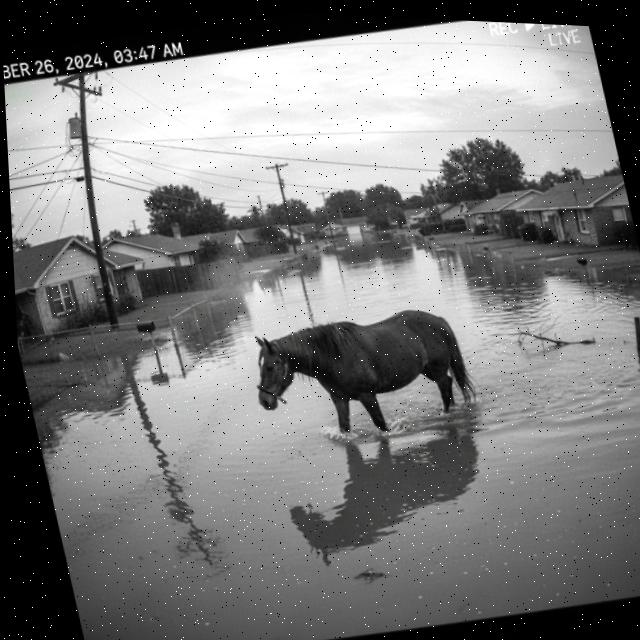horse: (225, 276, 510, 481)
